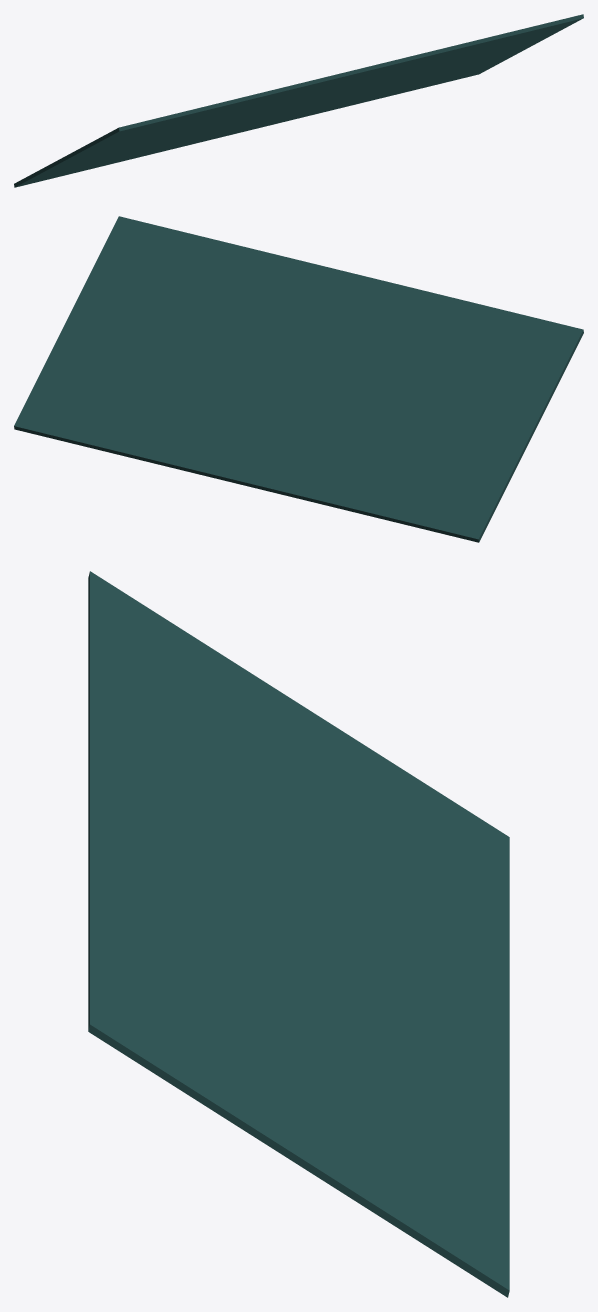
The model's file is techo2.obj.
The picture shows the model from 3 angles, top to bottom: view 1: azimuth 30°, elevation 25°; view 2: azimuth 150°, elevation 25°; view 3: azimuth 270°, elevation 25°; orthographic projection. The views are drawn at different scales.
Parts seen in each view (by area): view 1: pasted__pasted__pCube5 pasted__group4 group5; view 2: pasted__pasted__pCube5 pasted__group4 group5; view 3: pasted__pasted__pCube5 pasted__group4 group5.
Part boxes in pixels (<box>): pasted__pasted__pCube5 pasted__group4 group5: <box>14,14,583,187</box>; pasted__pasted__pCube5 pasted__group4 group5: <box>14,216,583,542</box>; pasted__pasted__pCube5 pasted__group4 group5: <box>88,571,509,1297</box>.
Bounding box in the file's own units: 10.54 × 2.96 × 4.14.
Materials: 1 (1 with a texture image).
